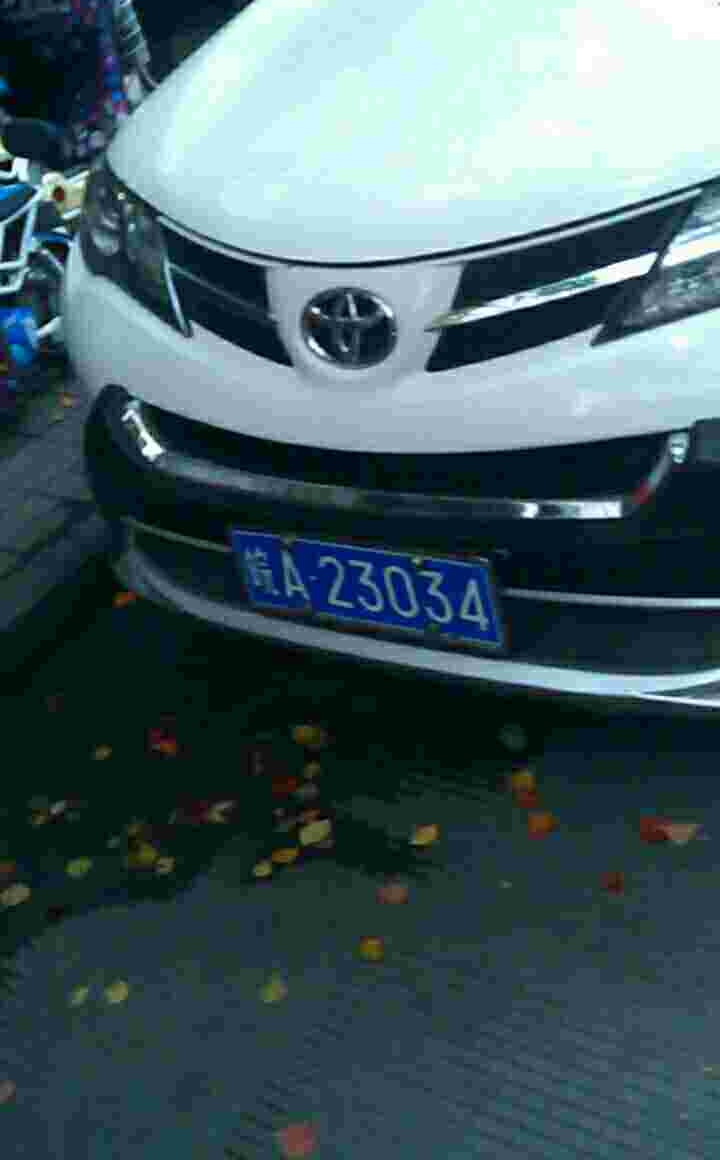license_plate: (230, 538, 531, 633)
